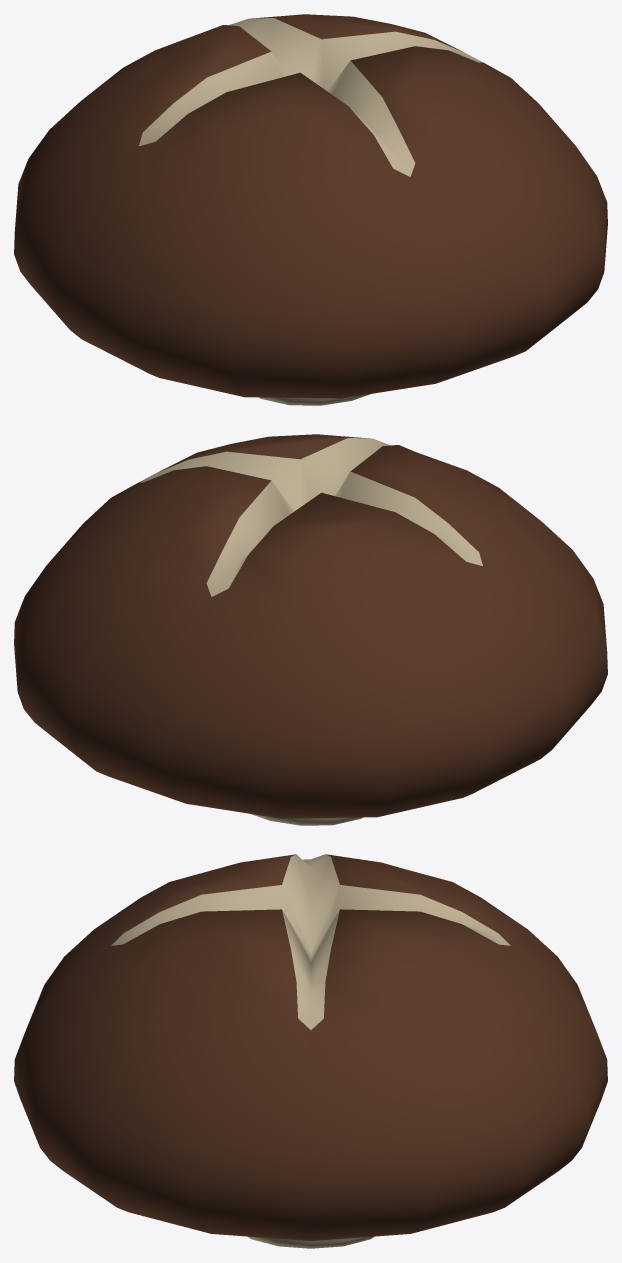
The model's file is Mushroom.fbx.
3 renders of one model, top to bottom at view 1: azimuth 30°, elevation 25°; view 2: azimuth 150°, elevation 25°; view 3: azimuth 270°, elevation 25°, orthographic.
Parts seen in each view (by area): view 1: Mushroom; view 2: Mushroom; view 3: Mushroom.
Part boxes in pixels (x1,y1,x2,y2): Mushroom: [14, 14, 607, 405]; Mushroom: [14, 434, 607, 825]; Mushroom: [14, 854, 607, 1248].
Size of the model in its own units: 63.24 by 38.08 by 63.24.
